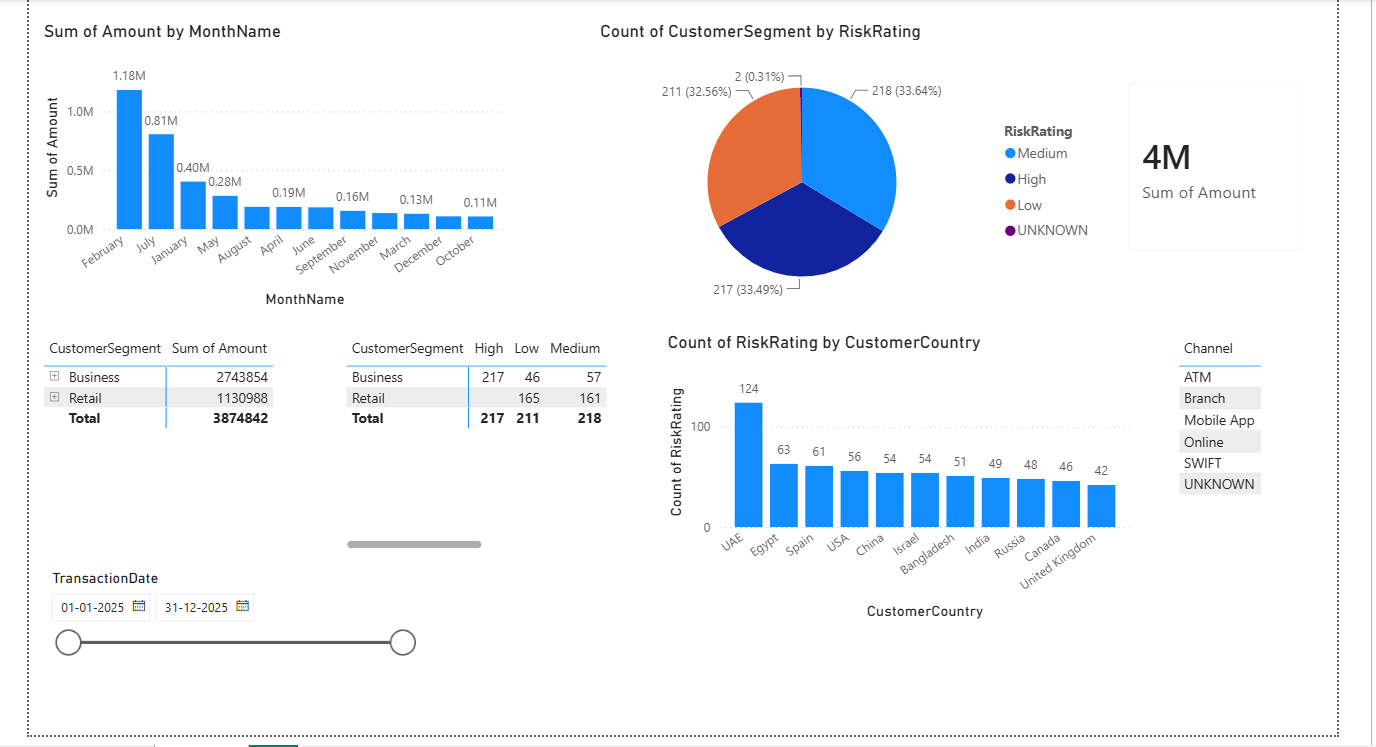

Layout of this report page (visuals, bound fields, positions):
{"tool":"powerbi","page":{"name":"Page 1","canvas":[1280,720],"ordinal":0},"visuals":[{"type":"FlowVisual_C29F1DCC_81F5_4973_94AD_0517D44CC06A","box":[10,0,280,280],"z":0},{"type":"columnChart","fields":{"Category":["Raw_Transactions.MonthName"],"Y":["Sum(Raw_Transactions.Amount)"]},"box":[9.8,20.8,462.2,286.1],"z":1000},{"type":"pieChart","fields":{"Y":["CountNonNull(Raw_Transactions.CustomerSegment)"],"Category":["Raw_Transactions.RiskRating"]},"box":[553.9,20.8,496.8,286.6],"z":2000},{"type":"pivotTable","fields":{"Rows":["Raw_Transactions.CustomerSegment","Raw_Transactions.RiskRating"],"Values":["Sum(Raw_Transactions.Amount)"]},"box":[9.8,325.3,264.1,217.7],"z":3000},{"type":"columnChart","fields":{"Category":["Raw_Transactions.CustomerCountry"],"Y":["CountNonNull(Raw_Transactions.RiskRating)"]},"box":[620,325.3,462.2,286.1],"z":3001},{"type":"pivotTable","fields":{"Columns":["Raw_Transactions.RiskRating"],"Rows":["Raw_Transactions.CustomerSegment"],"Values":["CountNonNull(Raw_Transactions.CustomerSegment)"]},"box":[305.7,325.3,264.1,217.7],"z":3002},{"type":"cardVisual","fields":{"Data":["Sum(Raw_Transactions.Amount)"]},"box":[1059,64.8,204.2,199.3],"z":3003},{"type":"tableEx","fields":{"Values":["Raw_Transactions.Channel"]},"box":[1118.9,325.3,161.4,273.9],"z":3004},{"type":"slicer","fields":{"Values":["Raw_Transactions.TransactionDate"]},"box":[9.8,552.7,376.6,167.5],"z":3005}]}

Visuals, with their boxes on the page's 1280x720 design canvas (x1, y1, x2, y2). These are canvas units, not pixel positions in the 1376x747 screenshot, which may show the page scaled, cropped or inside an application window:
FlowVisual_C29F1DCC_81F5_4973_94AD_0517D44CC06A: Rect(10, 0, 290, 280)
columnChart - Raw_Transactions.MonthName x Sum(Raw_Transactions.Amount): Rect(10, 21, 472, 307)
pieChart - CountNonNull(Raw_Transactions.CustomerSegment) x Raw_Transactions.RiskRating: Rect(554, 21, 1051, 307)
pivotTable - Raw_Transactions.CustomerSegment x Raw_Transactions.RiskRating: Rect(10, 325, 274, 543)
columnChart - Raw_Transactions.CustomerCountry x CountNonNull(Raw_Transactions.RiskRating): Rect(620, 325, 1082, 611)
pivotTable - Raw_Transactions.RiskRating x Raw_Transactions.CustomerSegment: Rect(306, 325, 570, 543)
cardVisual - Sum(Raw_Transactions.Amount): Rect(1059, 65, 1263, 264)
tableEx - Raw_Transactions.Channel: Rect(1119, 325, 1280, 599)
slicer - Raw_Transactions.TransactionDate: Rect(10, 553, 386, 720)
